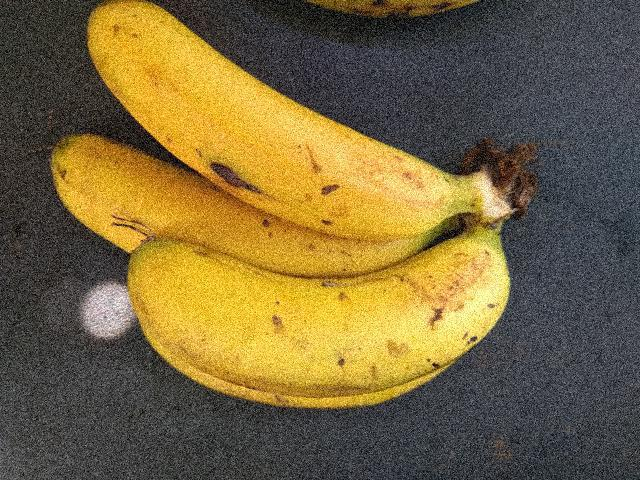ripe: (90, 0, 478, 237), (113, 246, 523, 409), (49, 134, 330, 274)
